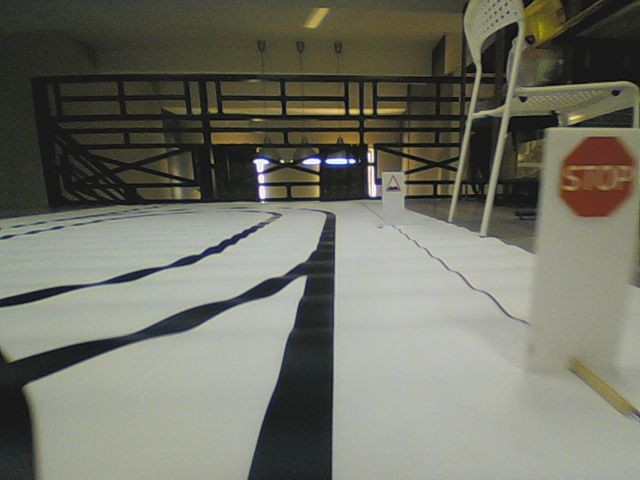Nerov: (385, 174, 401, 193)
Stop: (556, 133, 636, 220)
